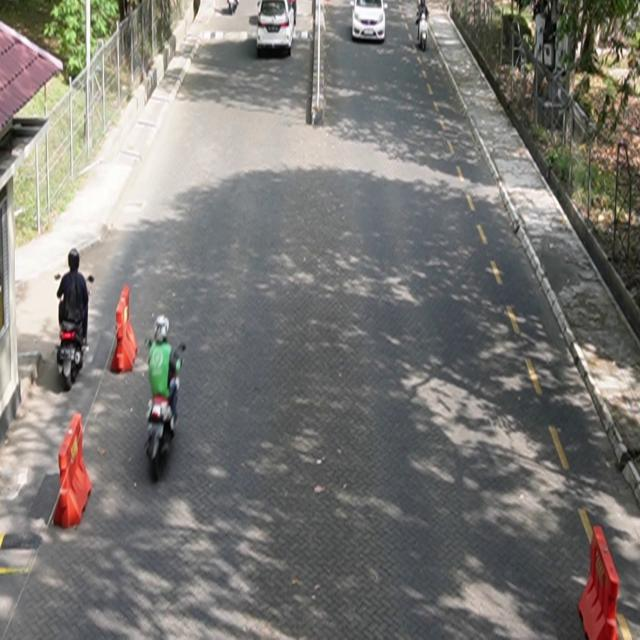car: (257, 1, 297, 58), (352, 1, 387, 43)
